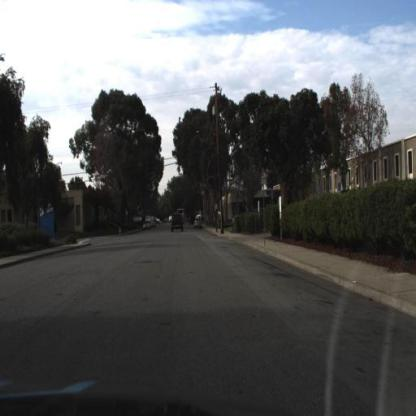car: (170, 211, 186, 234)
